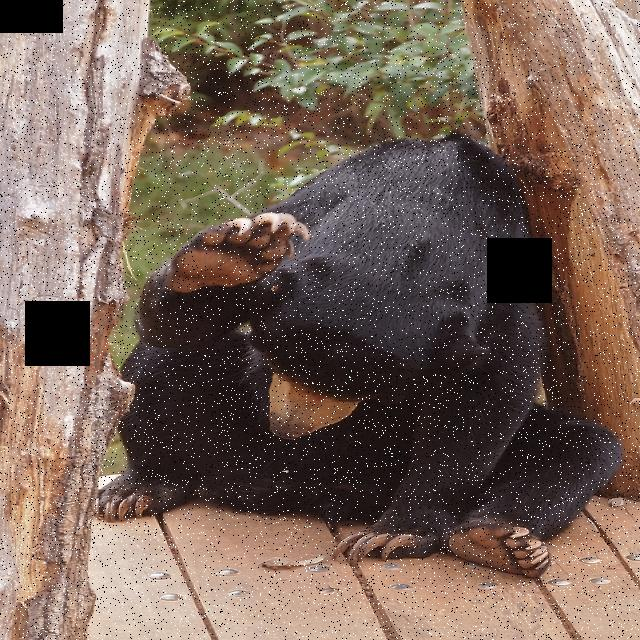Bear: (120, 135, 622, 577)
